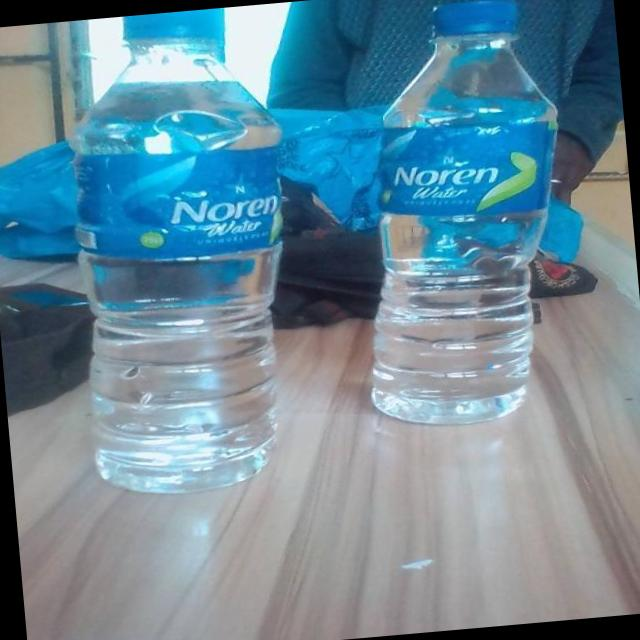plastic_bottle: (57, 5, 313, 500), (336, 0, 583, 432)
